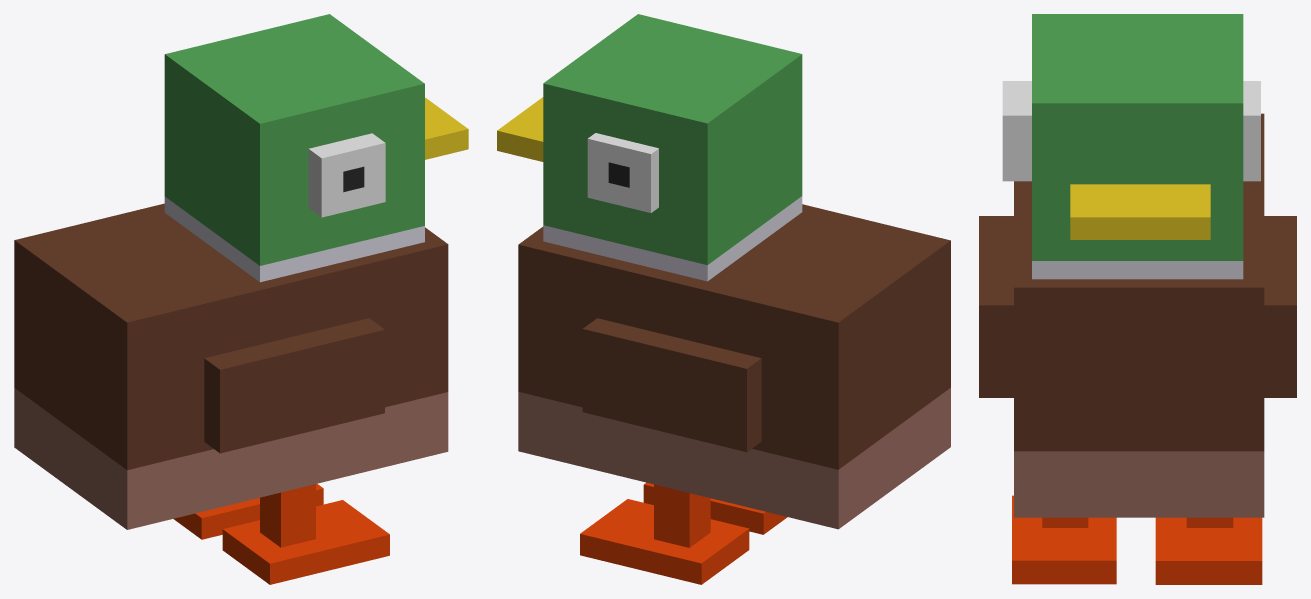
The model's file is patito.glb.
The picture shows the model from 3 angles, left to right: view 1: azimuth 30°, elevation 25°; view 2: azimuth 150°, elevation 25°; view 3: azimuth 270°, elevation 25°; orthographic projection. The views are drawn at different scales.
Parts seen in each view (by area): view 1: Cube.007, Cube.001, Cube.004, Cube.005, Cube.003, Cube.006, Cube.002; view 2: Cube.007, Cube.001, Cube.004, Cube.006, Cube.003, Cube.002, Cube.005; view 3: Cube.007, Cube.001, Cube.004, Cube.002, Cube.006, Cube.005, Cube.003.
Part boxes in pixels (box(x1,y1,x2,y2)): Cube.007: box(14, 203, 448, 529); Cube.001: box(164, 14, 424, 282); Cube.004: box(204, 318, 384, 453); Cube.005: box(222, 484, 389, 584); Cube.003: box(308, 133, 385, 217); Cube.006: box(173, 484, 323, 539); Cube.002: box(425, 97, 468, 159); Cube.007: box(518, 204, 950, 529); Cube.001: box(543, 14, 802, 281); Cube.004: box(582, 318, 761, 452); Cube.006: box(580, 484, 749, 584); Cube.003: box(587, 133, 658, 212); Cube.002: box(497, 97, 543, 161); Cube.005: box(643, 482, 787, 534); Cube.007: box(1014, 113, 1264, 517); Cube.001: box(1032, 14, 1243, 279); Cube.004: box(979, 216, 1296, 397); Cube.002: box(1070, 184, 1210, 239); Cube.006: box(1155, 517, 1262, 584); Cube.005: box(1012, 495, 1116, 584); Cube.003: box(1002, 81, 1260, 181).
Size of what is drawn, in the model's own units: 4.45 by 5.29 by 3.01.
